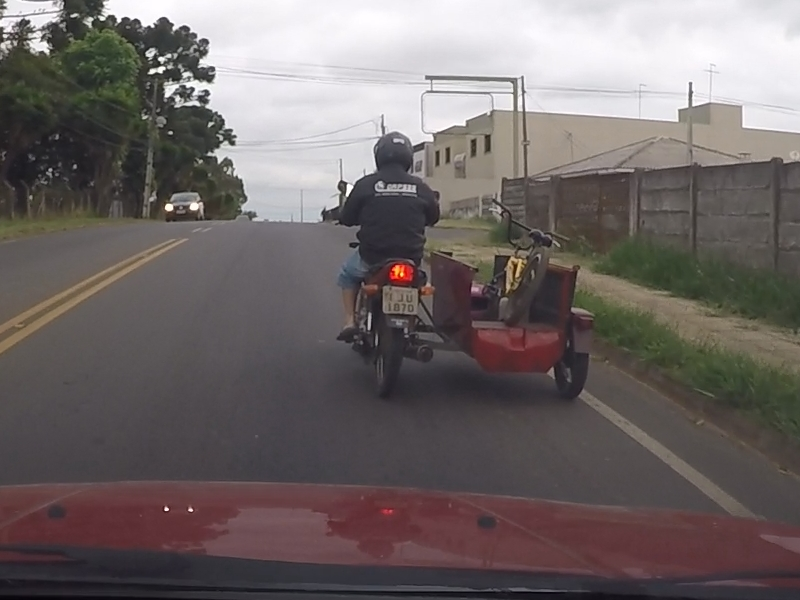placa: (382, 285, 418, 315)
